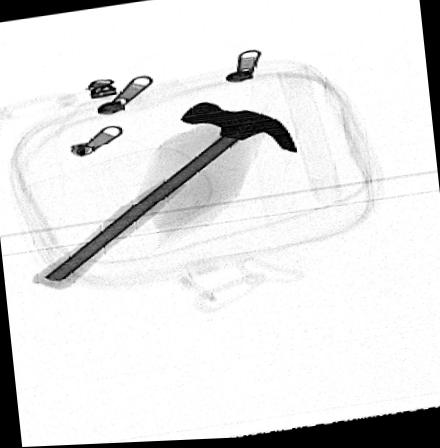Hammer: (33, 101, 298, 289)
